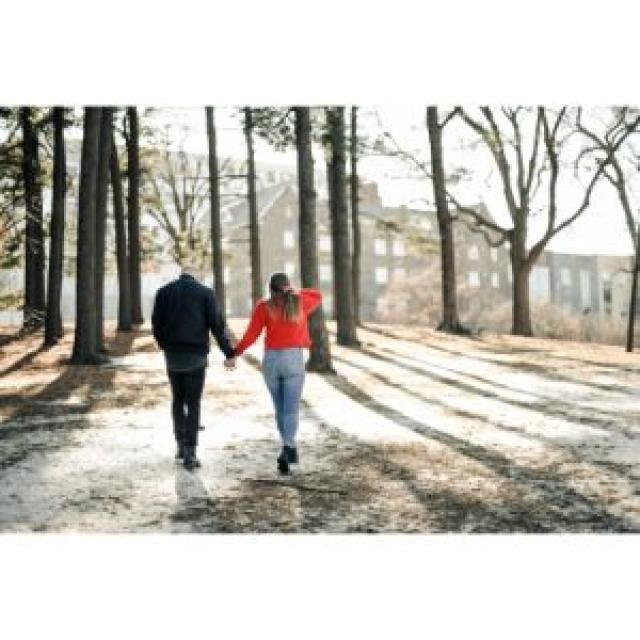nonfall: (233, 265, 338, 495), (128, 243, 226, 483)
